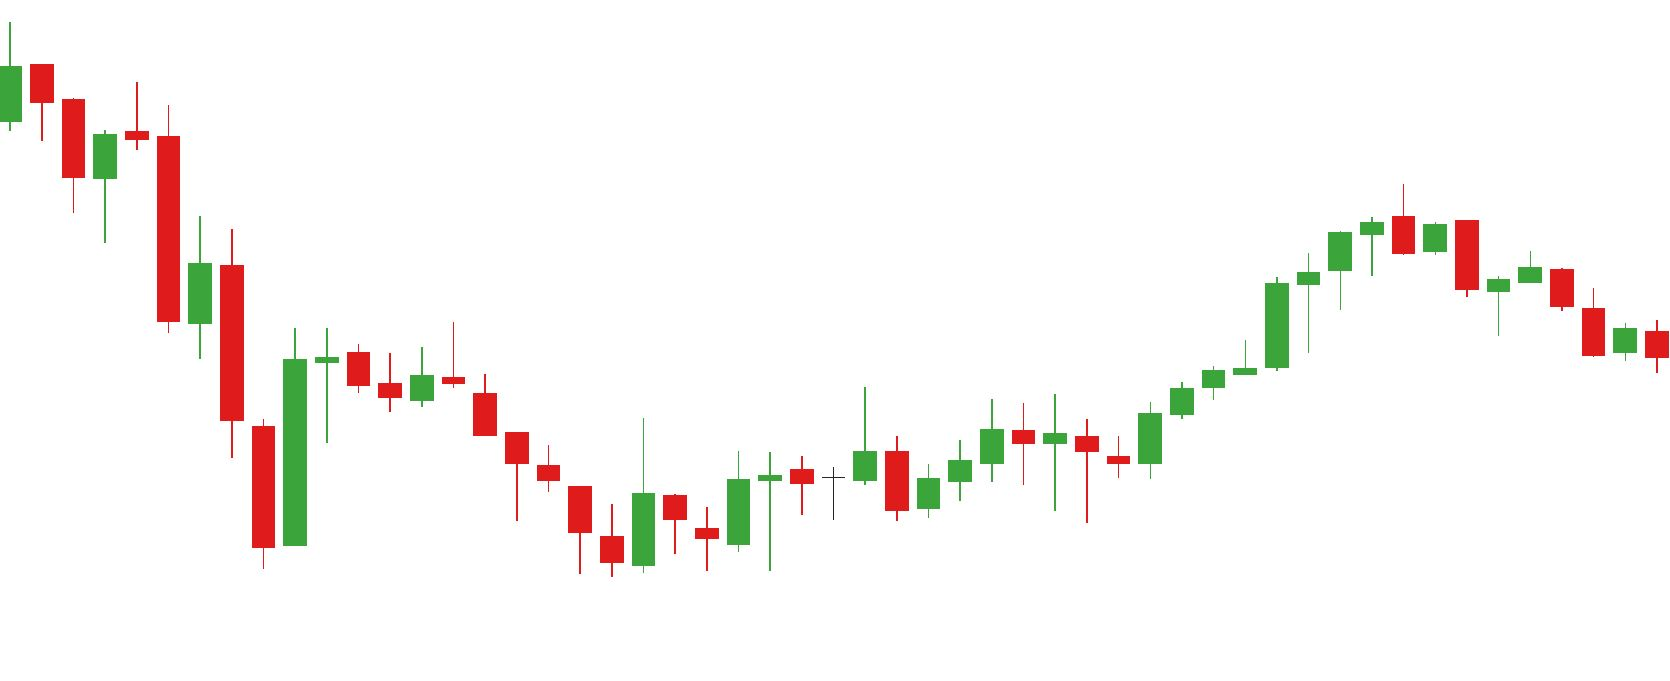sell: (280, 319, 466, 421)
